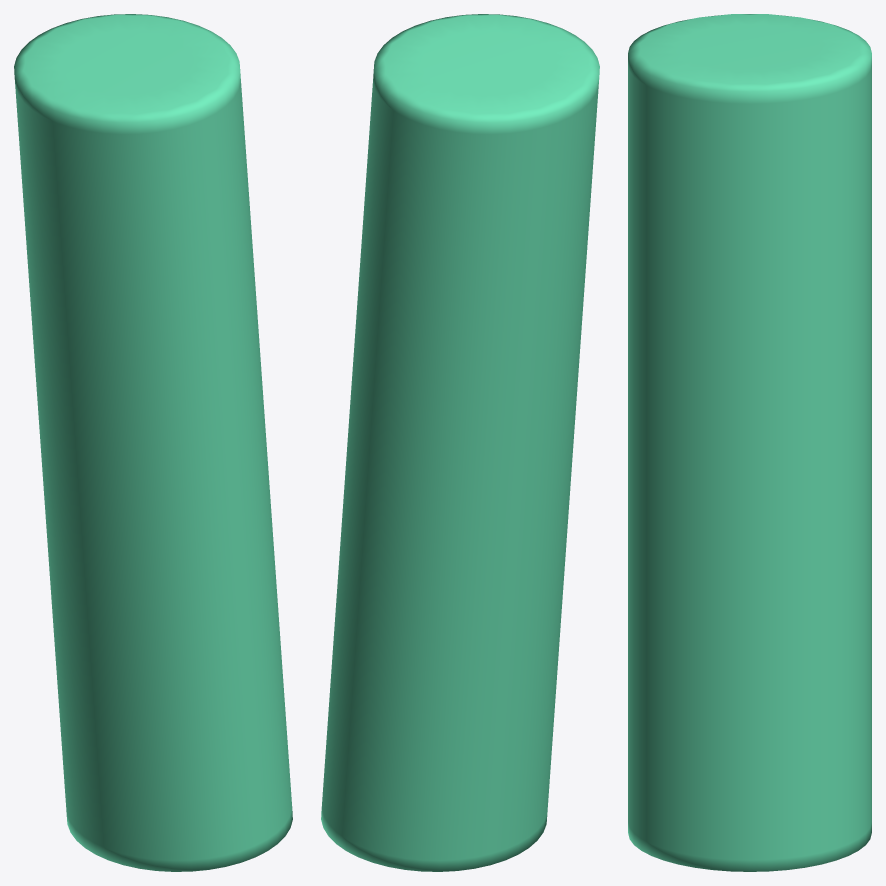
Rendered from flowy_juice.fbx.
3 views of the same model, side by side, from view 1: azimuth 30°, elevation 25°; view 2: azimuth 150°, elevation 25°; view 3: azimuth 270°, elevation 25° (orthographic).
Parts seen in each view (by area): view 1: flowy_juice; view 2: flowy_juice; view 3: flowy_juice.
Boxes of the visible parts, <box> form: flowy_juice: <box>14,14,292,871</box>; flowy_juice: <box>321,14,599,871</box>; flowy_juice: <box>628,14,871,871</box>.
Bounding box in the file's own units: 0.138 × 0.4248 × 0.1212.
